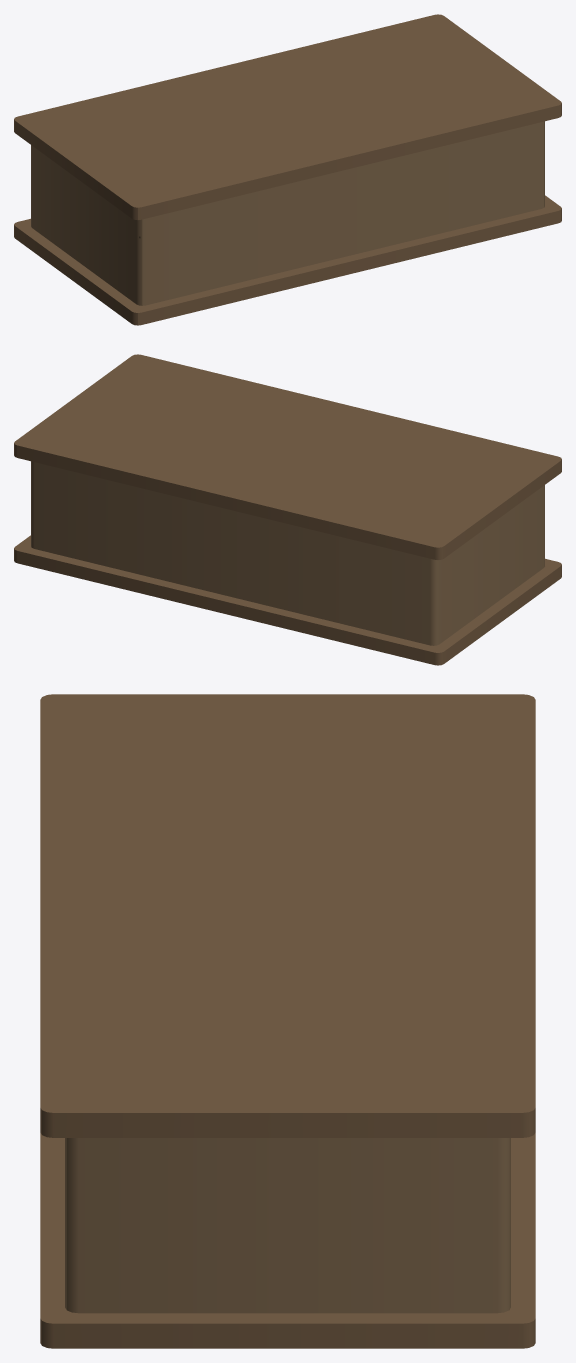
Rendered from BigTable.fbx.
3 views of the same model, one above another, from view 1: azimuth 30°, elevation 25°; view 2: azimuth 150°, elevation 25°; view 3: azimuth 270°, elevation 25° (orthographic). The views are drawn at different scales.
Visible parts, largest first — view 1: BigTable; view 2: BigTable; view 3: BigTable.
Boxes of the visible parts, x1=… form: BigTable: x1=14, y1=14, x2=561, y2=325; BigTable: x1=14, y1=354, x2=561, y2=665; BigTable: x1=40, y1=694, x2=535, y2=1348.
Size of the model in its own units: 400 by 105 by 200.
1 material, 1 textured.
